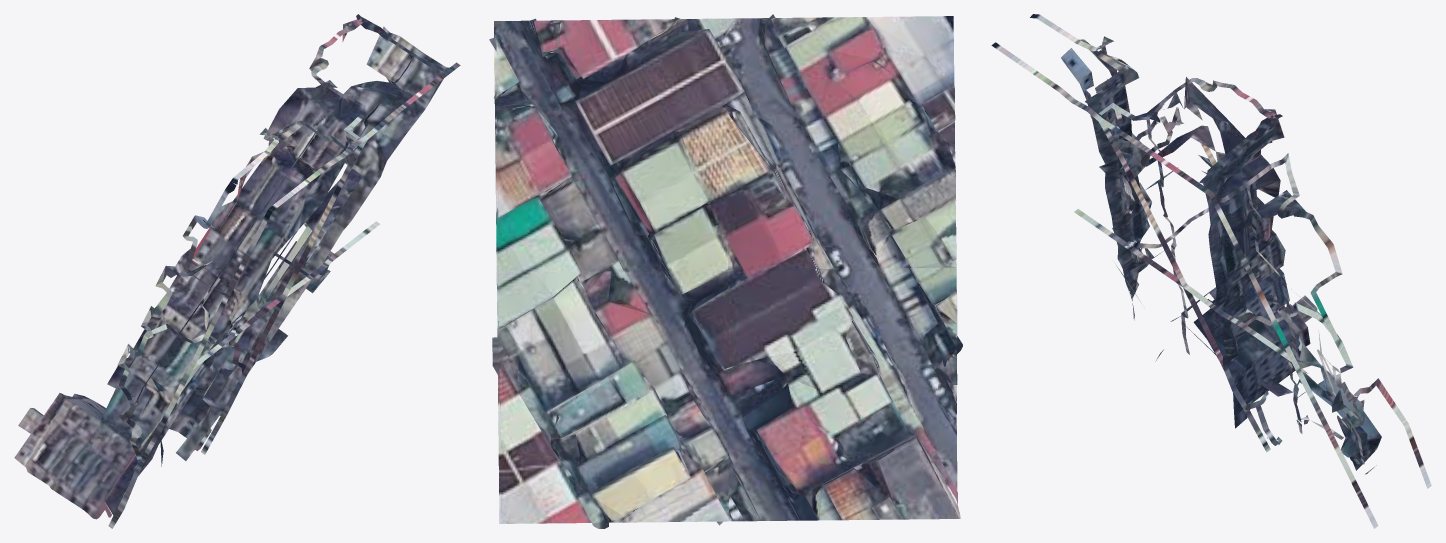
3 views of the same model, side by side, from view 1: azimuth 30°, elevation 25°; view 2: azimuth 150°, elevation 25°; view 3: azimuth 270°, elevation 25° (orthographic). The views are drawn at different scales.
Bounding box in the file's own units: 86.09 × 77.17 × 73.21.
1 material, 1 textured.
